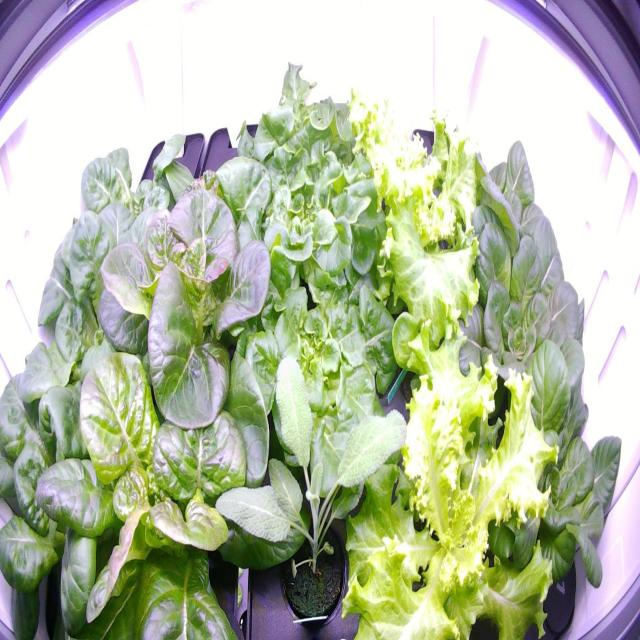Ready: (32, 336, 282, 636), (91, 153, 286, 436), (439, 336, 628, 621), (414, 199, 604, 455), (0, 329, 136, 634), (5, 205, 174, 387), (403, 131, 555, 300), (53, 128, 191, 276)
